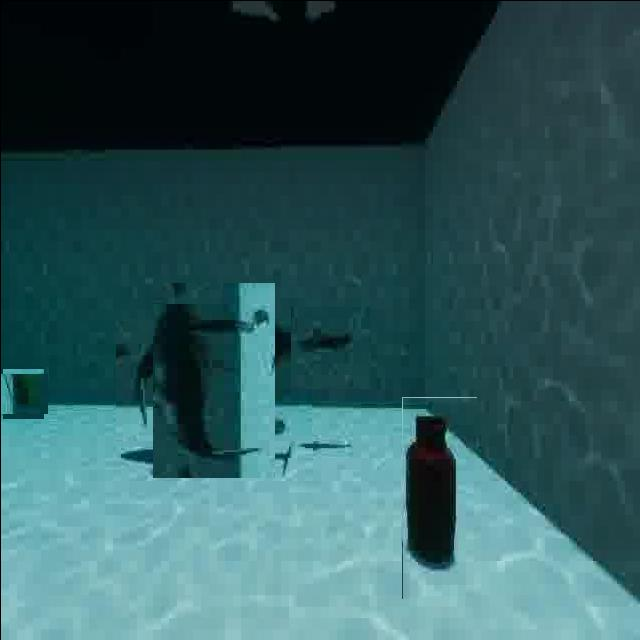Cylinder: (401, 396, 476, 598)
Pipe: (0, 370, 45, 415)
Whale: (134, 300, 292, 458), (290, 306, 370, 388)
